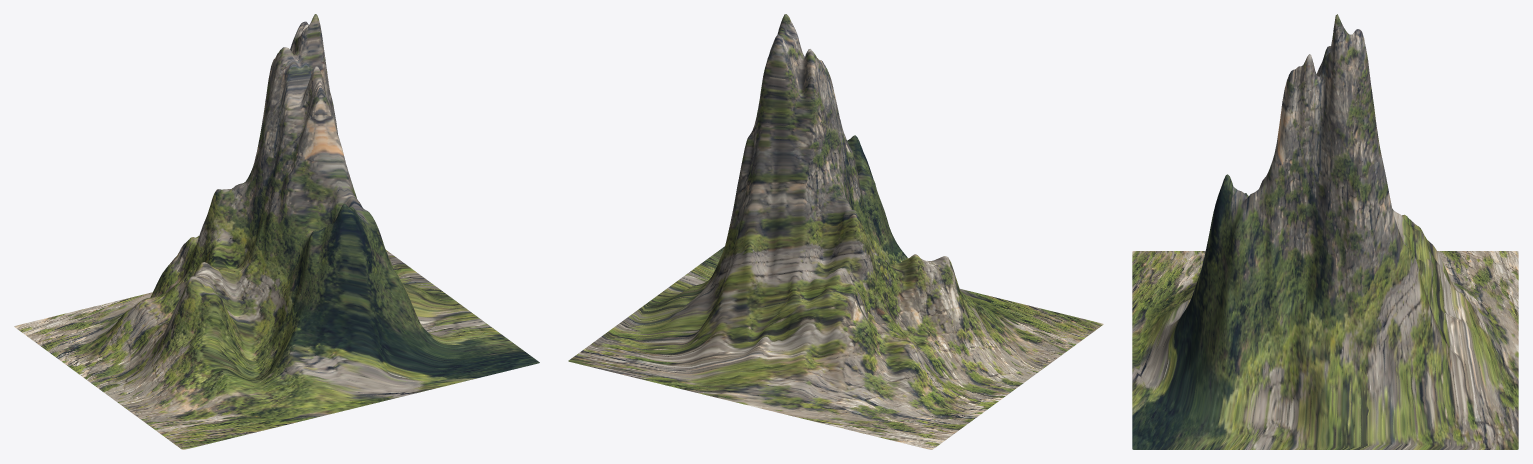
The model's file is UWMountain_Range.dae.
The picture shows the model from 3 angles, left to right: view 1: azimuth 30°, elevation 25°; view 2: azimuth 150°, elevation 25°; view 3: azimuth 270°, elevation 25°; orthographic projection. The views are drawn at different scales.
Parts seen in each view (by area): view 1: Landscape; view 2: Landscape; view 3: Landscape.
Boxes of the visible parts, <box> form: Landscape: <box>14,14,539,449</box>; Landscape: <box>568,14,1103,449</box>; Landscape: <box>1132,14,1518,449</box>.
Size of the model in its own units: 415 by 341 by 351.
1 material, 1 textured.
